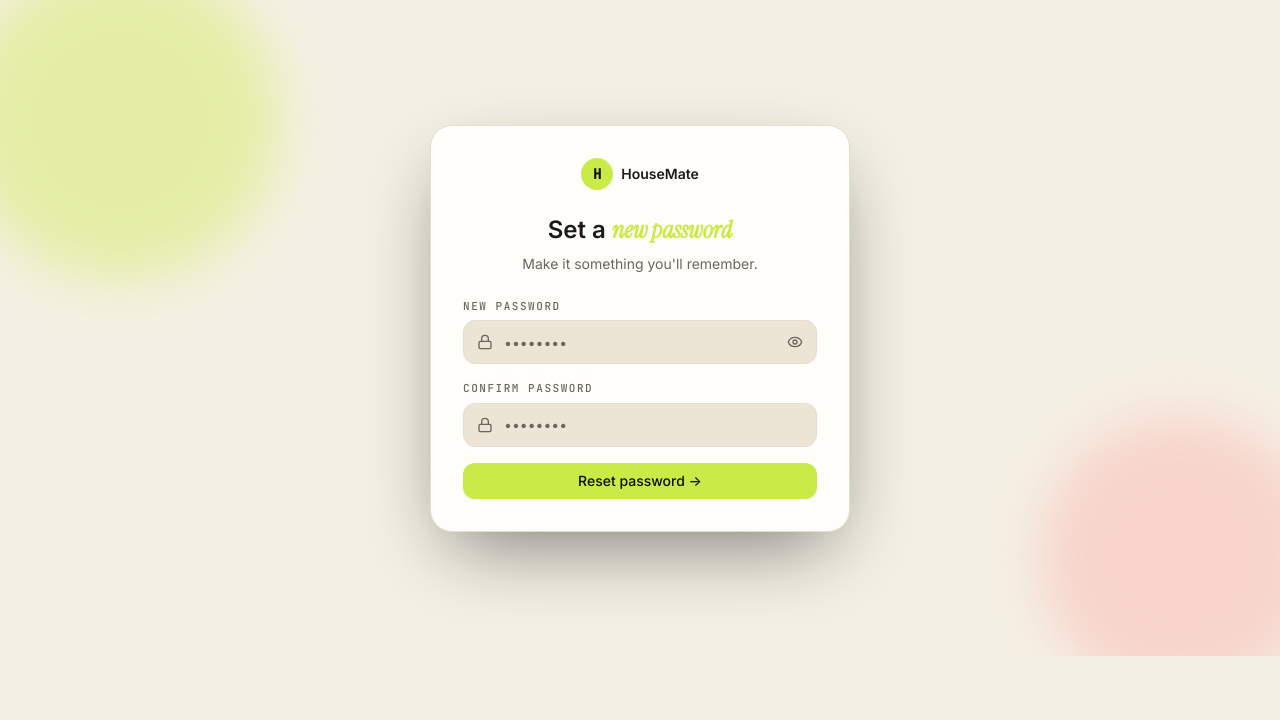
<ResetPasswordPage /> › shows success state after a valid reset
The image size is (1280, 720).
Step 1. Type "BrandNewPass1!" into the 1st password field with placeholder "••••••••" → (640, 342), box [463,320,817,364]
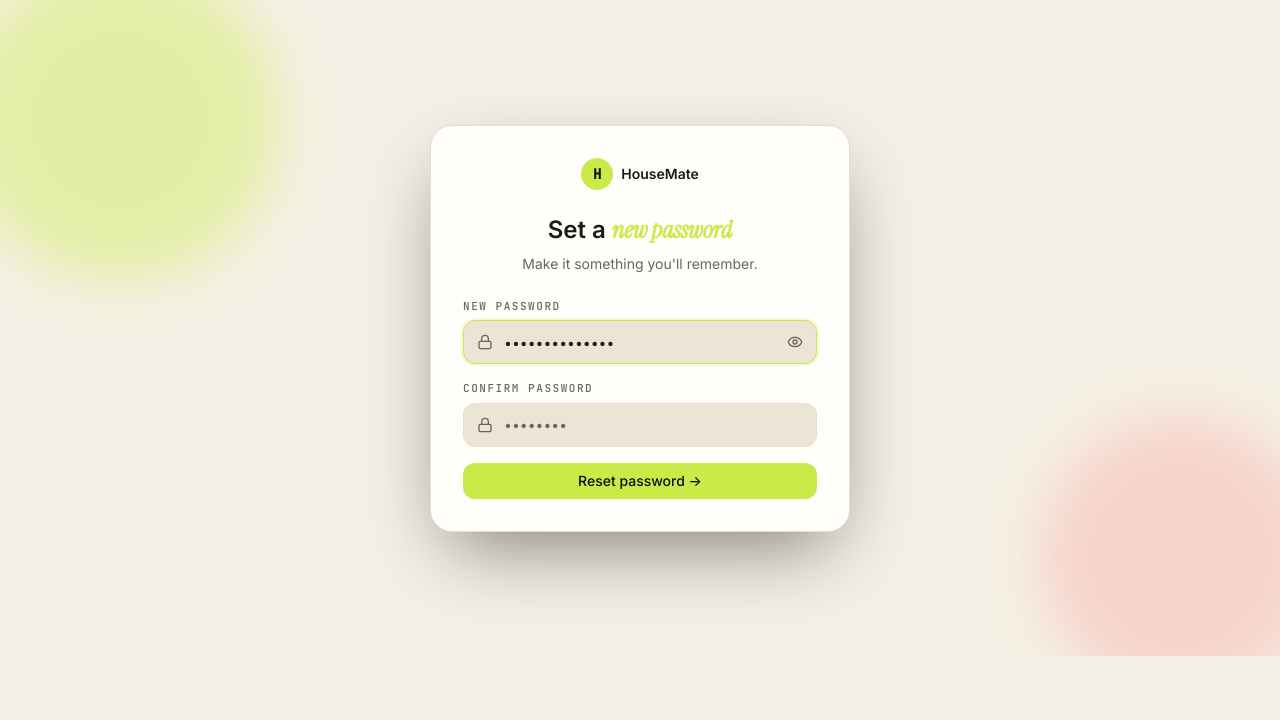
Step 2. Type "BrandNewPass1!" into the password field with placeholder "••••••••" → (640, 424), box [463,402,817,446]
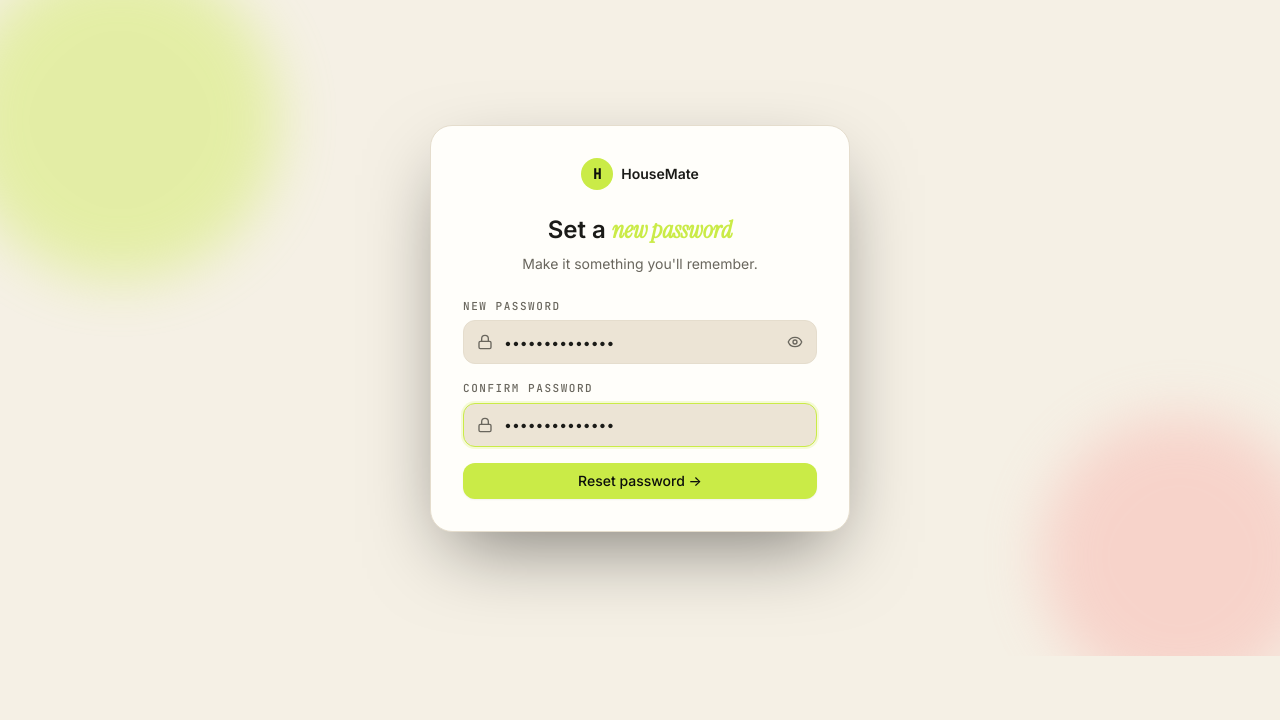
Step 3. Click the button "Reset password →" → (640, 480), box [463,462,817,498]
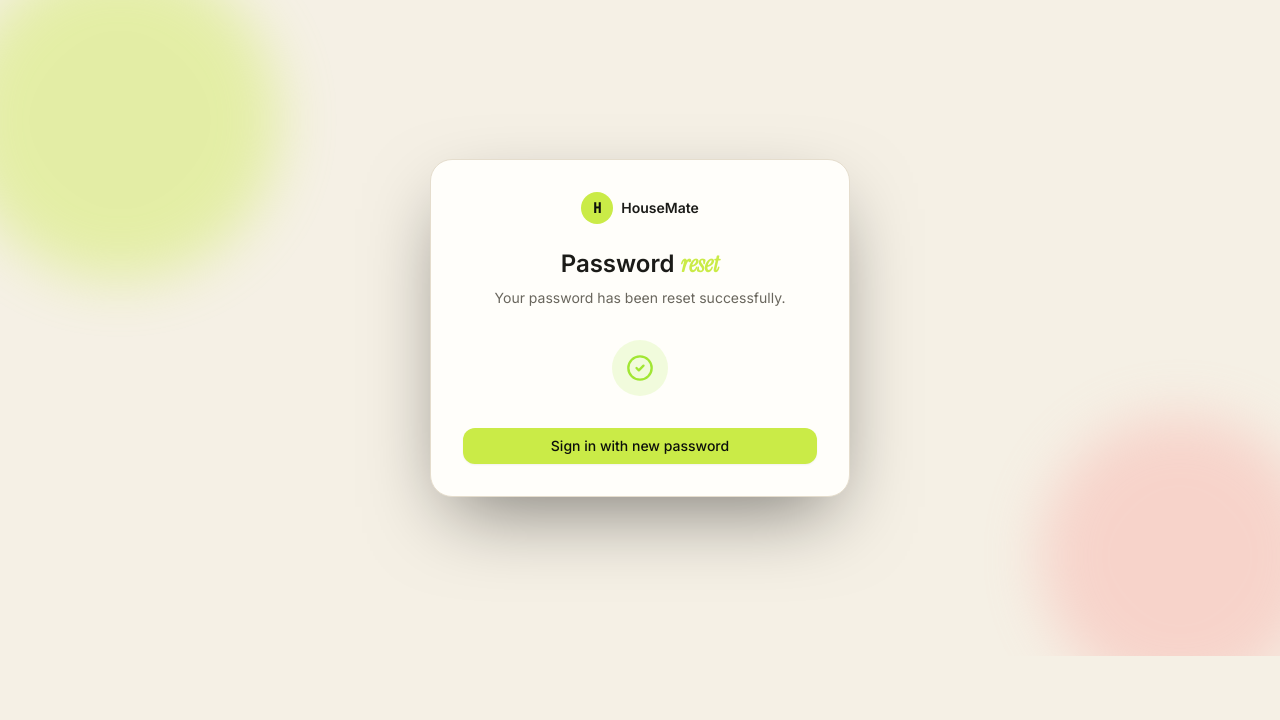
expect the text "Your password has been reset successfully." is shown: met, box [495,289,786,306]
